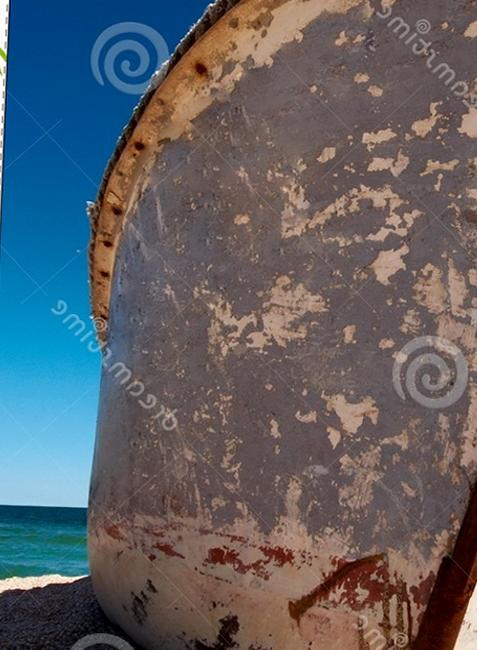rust: (89, 507, 469, 628)
